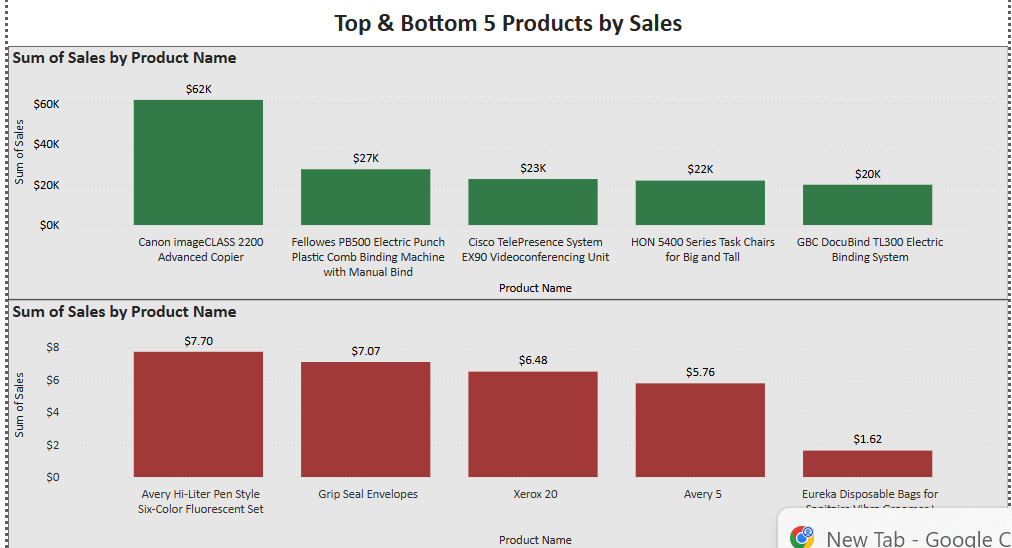

This screenshot's page, from the dashboard's own definition file:
{"tool":"powerbi","page":{"name":"Top 5 & Bottom 5 Products","canvas":[1280,720],"ordinal":1},"visuals":[{"type":"columnChart","fields":{"Category":["Sample - Superstore.Product Name"],"Y":["Sum(Sample - Superstore.Sales)"]},"box":[0,73,1280.6,324.5],"z":0},{"type":"columnChart","fields":{"Category":["Sample - Superstore.Product Name"],"Y":["Sum(Sample - Superstore.Sales)"]},"box":[0,397.4,1280.6,322.6],"z":1000},{"type":"textbox","box":[0,0,1280.6,73],"z":2000}]}

Visuals, with their boxes on the page's 1280x720 design canvas (x1, y1, x2, y2). These are canvas units, not pixel positions in the 1012x548 screenshot, which may show the page scaled, cropped or inside an application window:
columnChart - Sample - Superstore.Product Name x Sum(Sample - Superstore.Sales): region(0, 73, 1281, 398)
columnChart - Sample - Superstore.Product Name x Sum(Sample - Superstore.Sales): region(0, 397, 1281, 720)
textbox: region(0, 0, 1281, 73)
